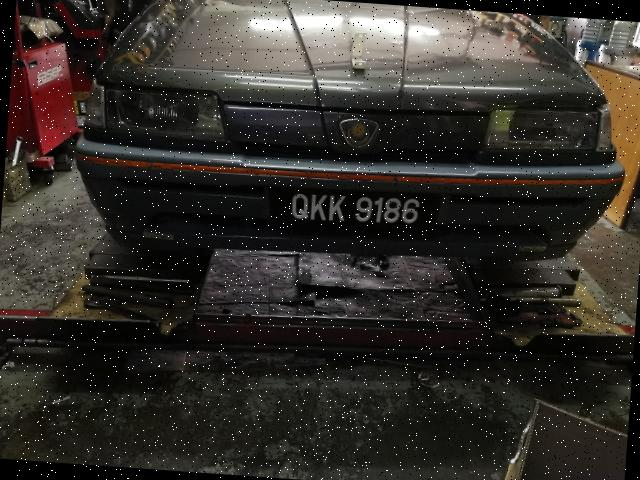License_Plate: (281, 188, 424, 234)
car: (65, 1, 640, 289)
